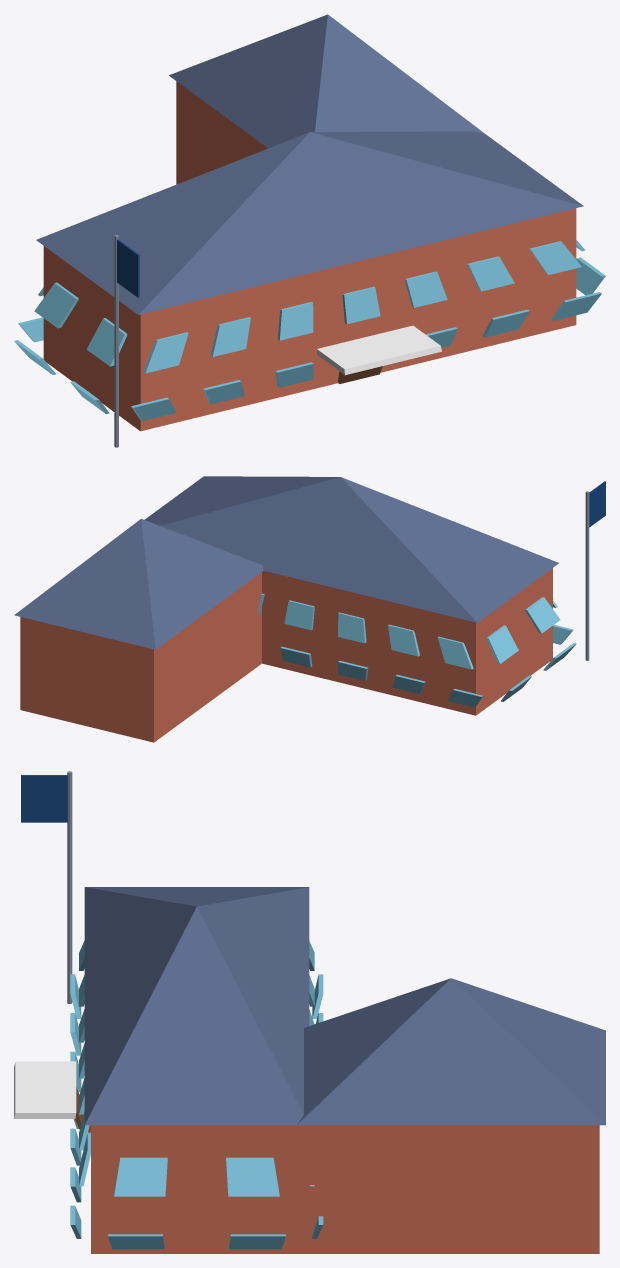
File: school.glb
The picture shows the model from 3 angles, top to bottom: view 1: azimuth 30°, elevation 25°; view 2: azimuth 150°, elevation 25°; view 3: azimuth 270°, elevation 25°; orthographic projection. The views are drawn at different scales.
Parts seen in each view (by area): view 1: school_roof_slate, school_brick, school_window, school_white, school_garda_blue, school_metal; view 2: school_roof_slate, school_brick, school_window, school_metal, school_garda_blue; view 3: school_roof_slate, school_brick, school_window, school_white, school_garda_blue, school_metal.
Part boxes in pixels (<box>): school_roof_slate: <box>36,14,583,314</box>; school_brick: <box>43,81,576,431</box>; school_window: <box>14,240,605,421</box>; school_white: <box>317,325,441,375</box>; school_garda_blue: <box>117,239,139,297</box>; school_metal: <box>114,235,118,447</box>; school_roof_slate: <box>14,476,558,649</box>; school_brick: <box>20,568,552,742</box>; school_window: <box>258,593,576,707</box>; school_metal: <box>585,491,589,660</box>; school_garda_blue: <box>589,481,605,527</box>; school_roof_slate: <box>84,887,605,1125</box>; school_brick: <box>91,1125,599,1253</box>; school_window: <box>70,941,323,1249</box>; school_white: <box>14,1061,76,1118</box>; school_garda_blue: <box>21,775,67,822</box>; school_metal: <box>67,771,72,1003</box>.
Size of the model in its own units: 31.7 by 12.5 by 29.05.
